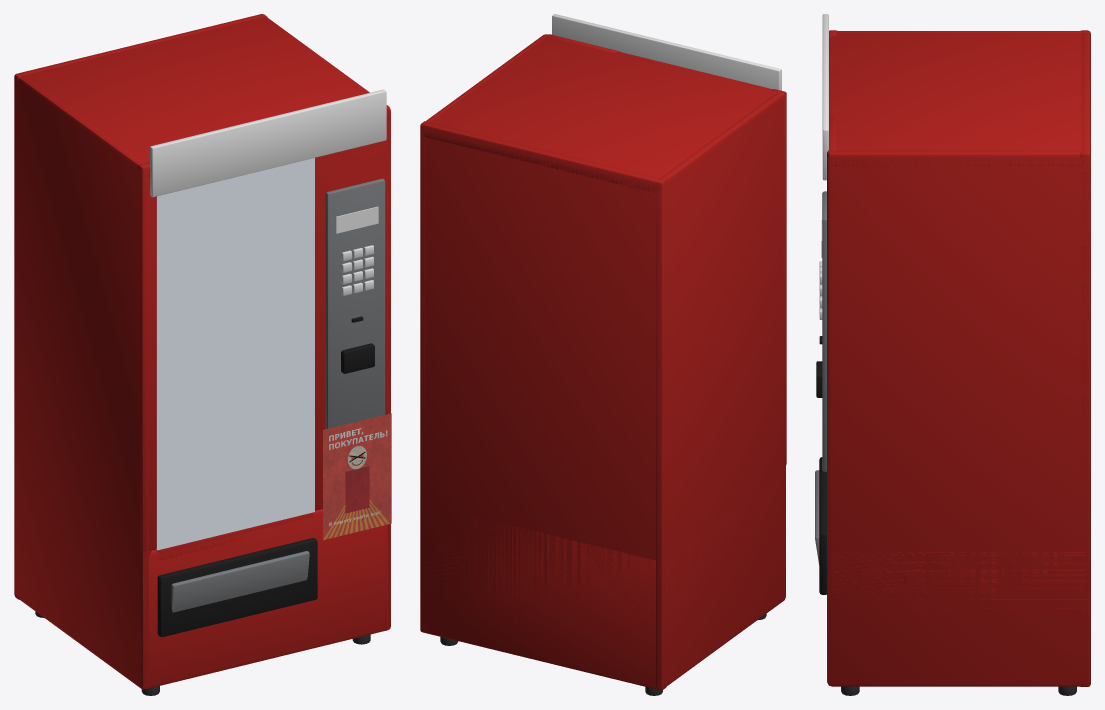
Rendered from VendingMachine.fbx.
3 renders of one model, left to right at view 1: azimuth 30°, elevation 25°; view 2: azimuth 150°, elevation 25°; view 3: azimuth 270°, elevation 25°, orthographic. The views are drawn at different scales.
Parts seen in each view (by area): view 1: VendingMachine; view 2: VendingMachine; view 3: VendingMachine.
Boxes of the visible parts, x1,y1,x2,y2 form: VendingMachine: (14, 14, 391, 695); VendingMachine: (420, 14, 786, 695); VendingMachine: (815, 14, 1090, 695).
Size of the model in its own units: 0.95 by 2.02 by 0.8888.
